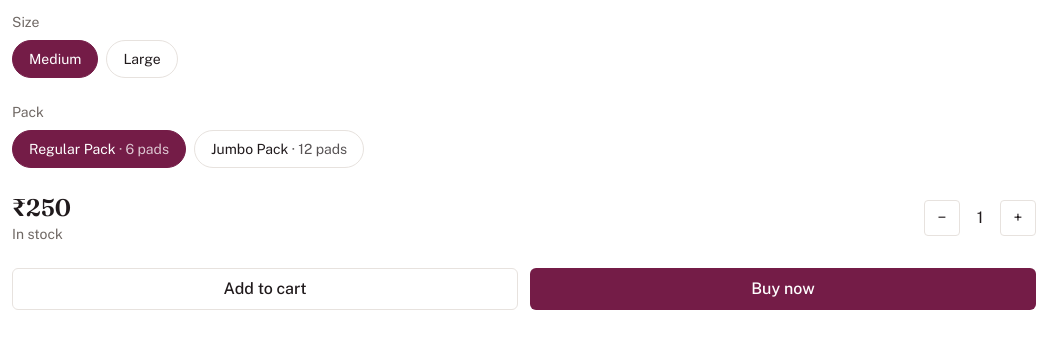
Test: VariantSelector › Buy now puts the chosen quantity in the cart and goes to checkout
Click the button named "Increase quantity" at {"x": 1018, "y": 218}, box left=1000, top=200, right=1036, bottom=236
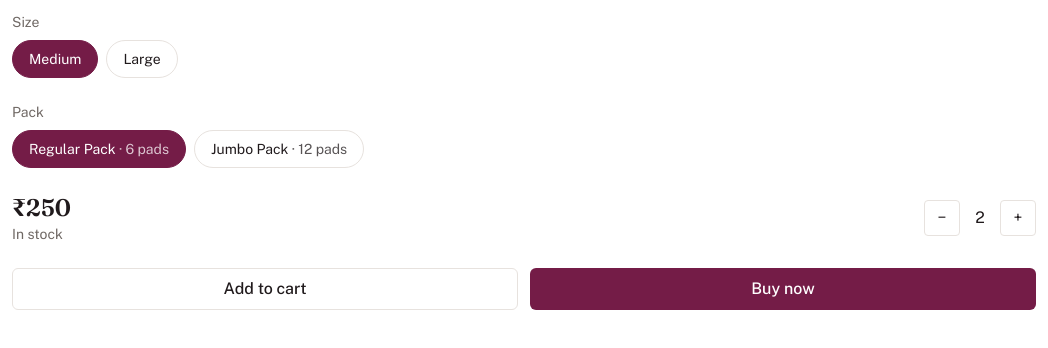
Click the button "Buy now" at {"x": 783, "y": 289}, box left=530, top=268, right=1036, bottom=310
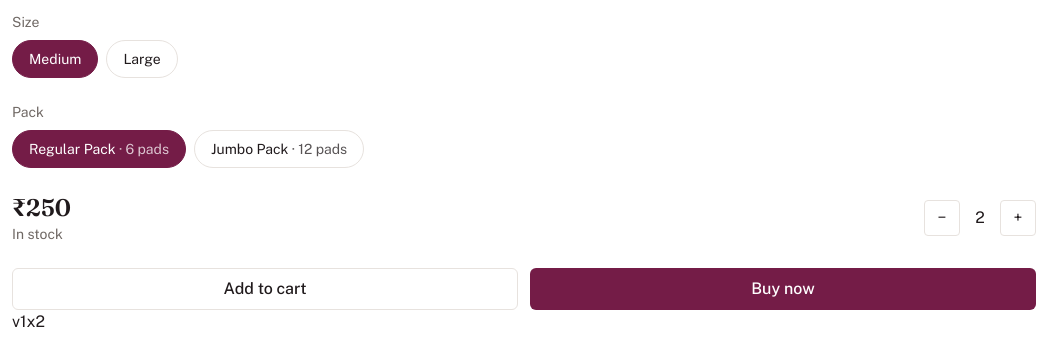
Expected: the text with test id "cart" reads "v1x2", left=12, top=312, right=45, bottom=331
